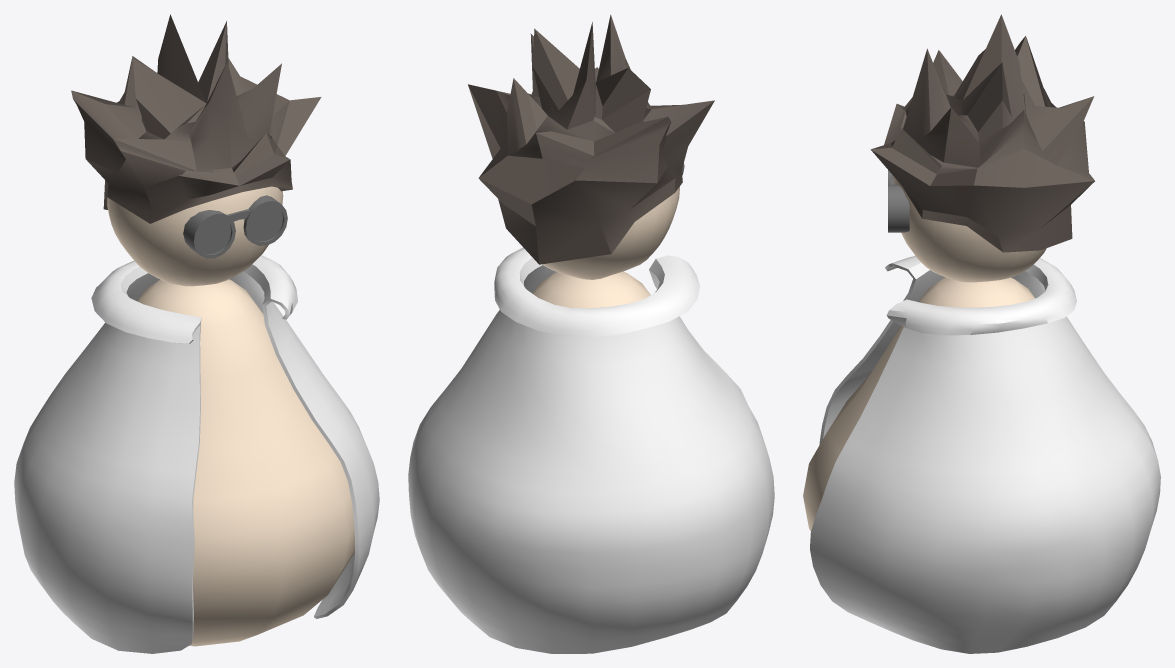
Rendered from Player.glb.
3 renders of one model, left to right at view 1: azimuth 30°, elevation 25°; view 2: azimuth 150°, elevation 25°; view 3: azimuth 270°, elevation 25°, orthographic. The views are drawn at different scales.
Parts seen in each view (by area): view 1: Player_mantle; view 2: Player_mantle; view 3: Player_mantle.
Boxes of the visible parts, x1=… form: Player_mantle: x1=14, y1=14, x2=379, y2=653; Player_mantle: x1=408, y1=14, x2=774, y2=653; Player_mantle: x1=803, y1=14, x2=1160, y2=653.
Bounding box in the file's own units: 0.977 × 1.8 × 0.9727.
